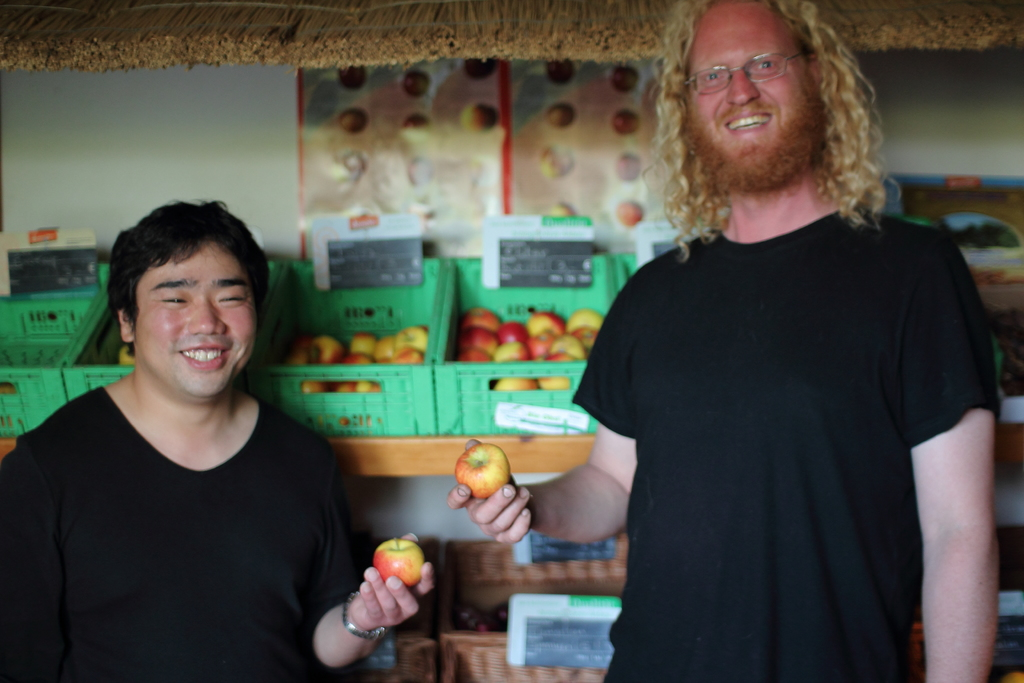Apple: (456, 306, 604, 391), (287, 322, 428, 394), (456, 441, 507, 498), (371, 535, 424, 586)
